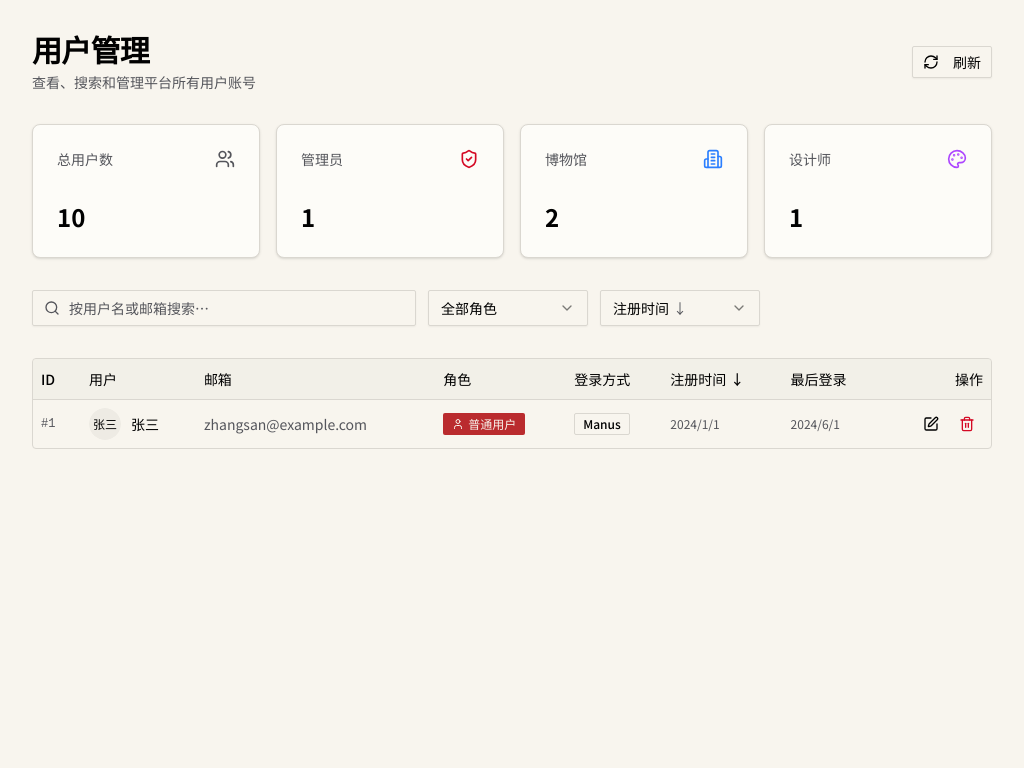
Test: P1：用户管理前端组件测试 › 4. 交互行为 › TC-FE-21：AlertDialog 取消按钮应关闭弹窗
Click the button titled "删除用户" at (967, 424), box 951,408 -> 983,440
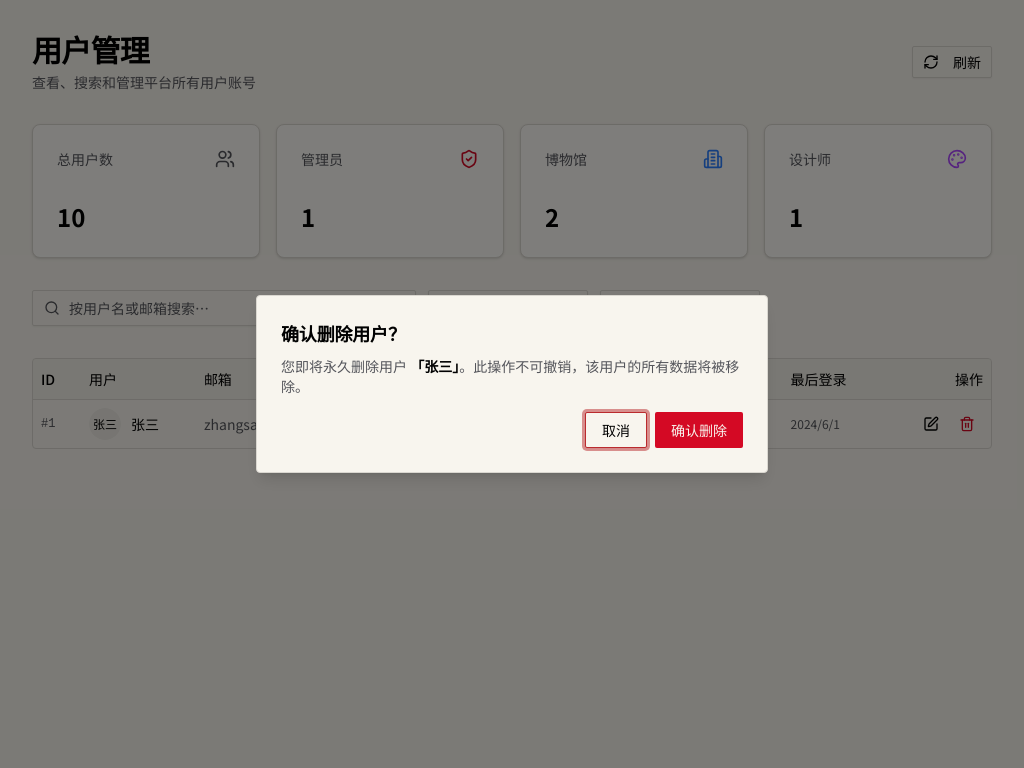
Expected: the heading "确认删除用户？" is shown, 281,322 -> 406,346
Click the button "取消" at (616, 430), box 585,412 -> 647,448
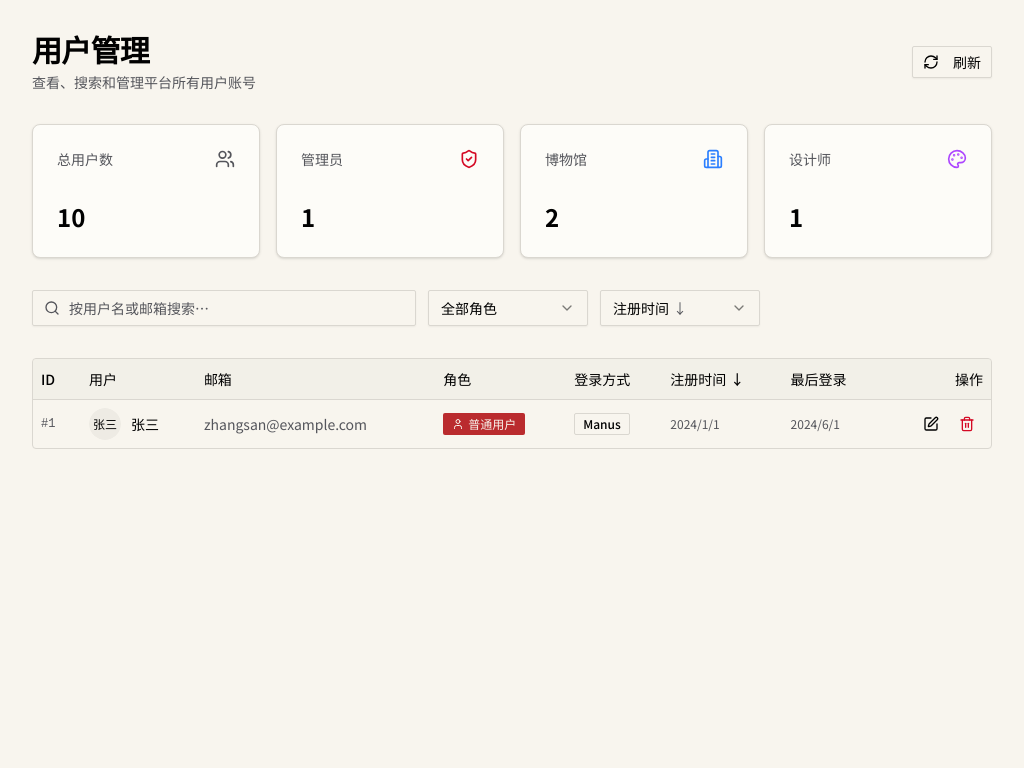
Expected: the heading "确认删除用户？" is gone
